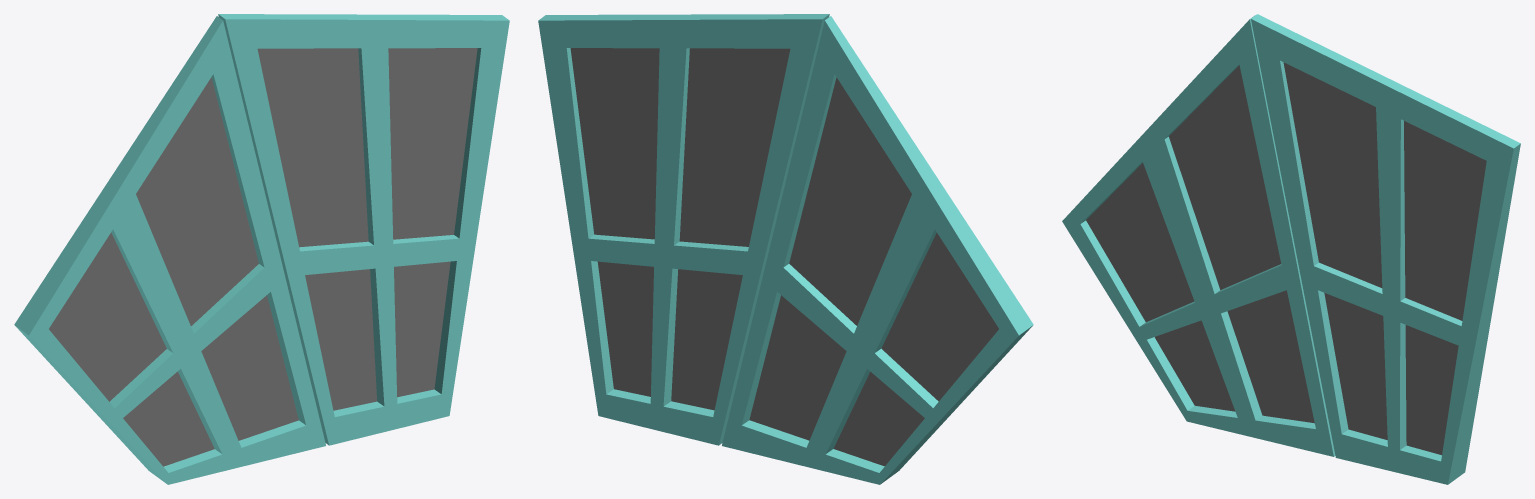
The model's file is door_01.fbx.
3 renders of one model, left to right at view 1: azimuth 30°, elevation 25°; view 2: azimuth 150°, elevation 25°; view 3: azimuth 330°, elevation 25°, orthographic. The views are drawn at different scales.
Visible parts, largest first — view 1: Box003, Box002; view 2: Box003, Box002; view 3: Box003, Box002.
Part boxes in pixels (x1,y1,x2,y2): Box003: [218, 14, 509, 445]; Box002: [14, 16, 325, 484]; Box003: [538, 14, 829, 445]; Box002: [722, 16, 1033, 484]; Box003: [1251, 14, 1520, 484]; Box002: [1062, 15, 1335, 456].
Size of the model in its own units: 73.61 by 64.75 by 5.08.
